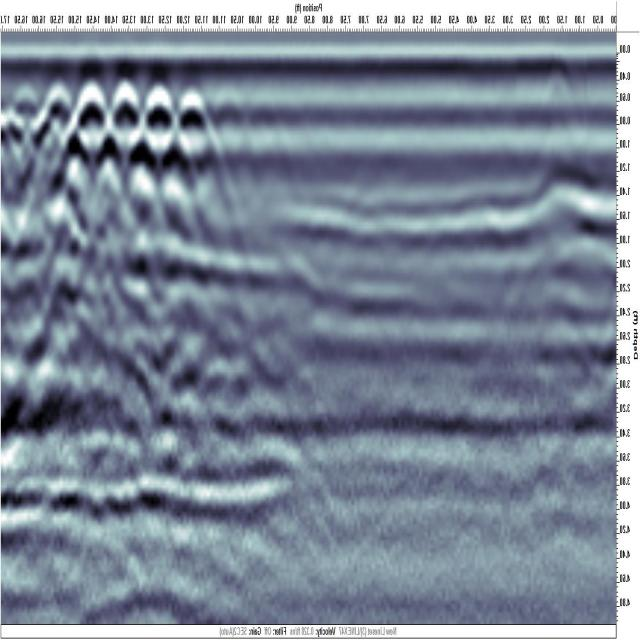hyperbola: (71, 69, 110, 154), (108, 74, 146, 152), (143, 77, 178, 153), (174, 83, 210, 152)
